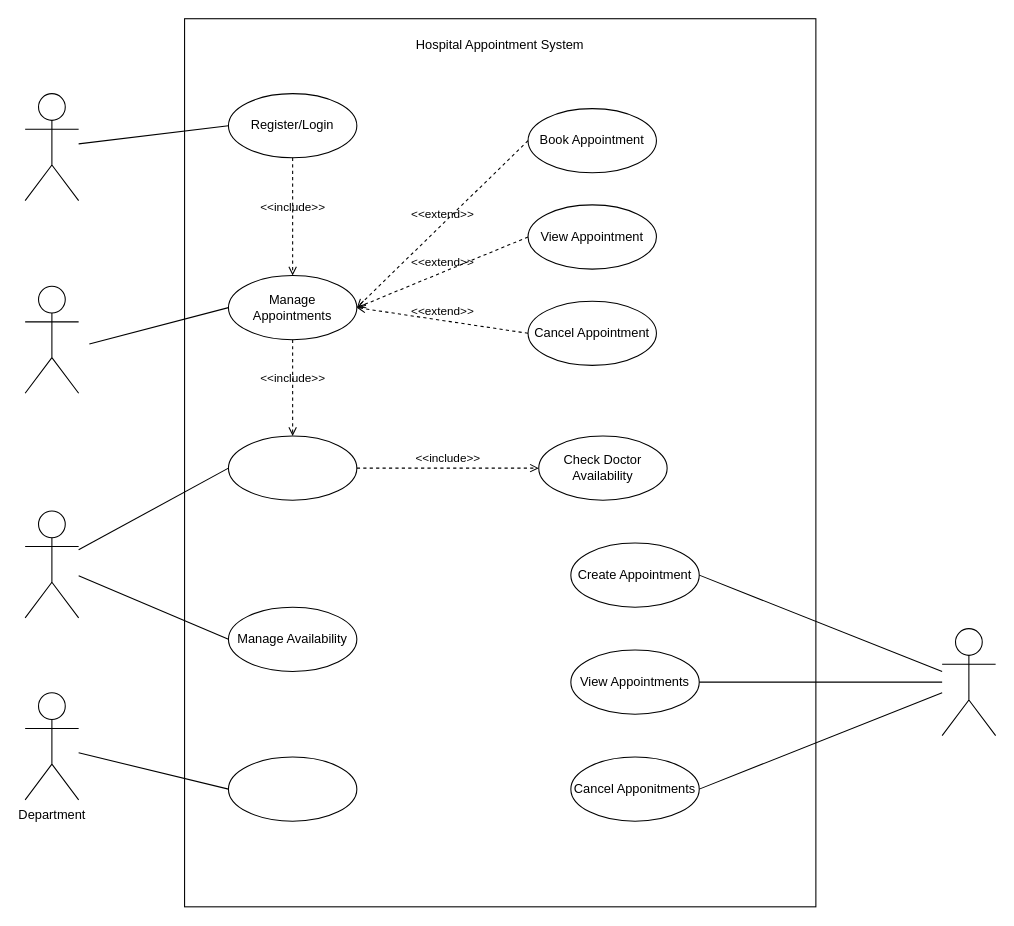
Image size: 1014x926. Some labels were removed from this diagram. Each missing label, with the centre of its shape:
"Admin" goes at point 968,682.
"Doctor" goes at point 51,564.
"Manage Department" goes at point 292,788.
"Patient" goes at point 51,339.
"User" goes at point 51,147.
"View Doctor Availability" goes at point 292,467.
